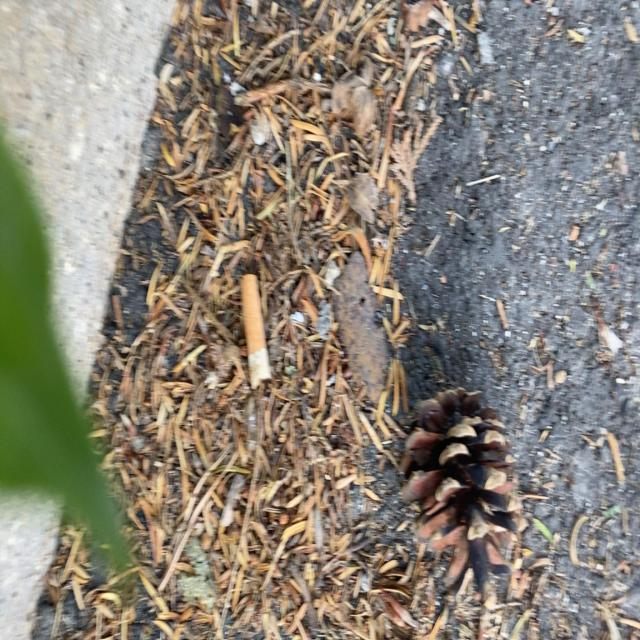other waste: (239, 270, 272, 390)
